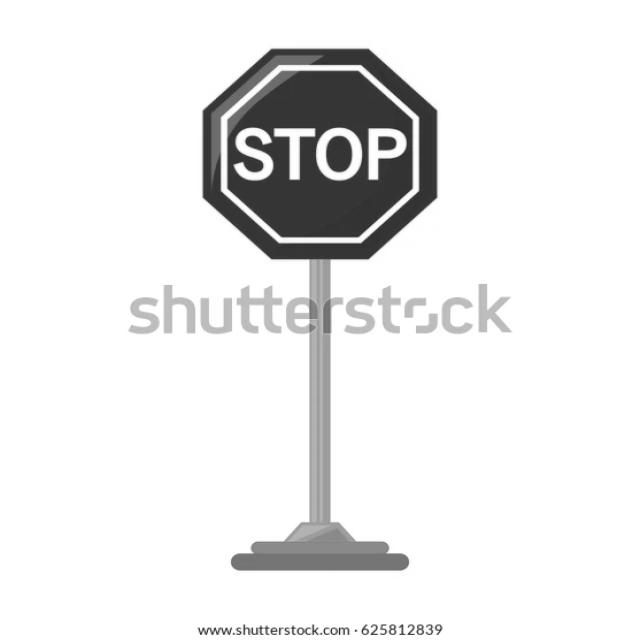Stop-sign: (180, 37, 446, 265)
